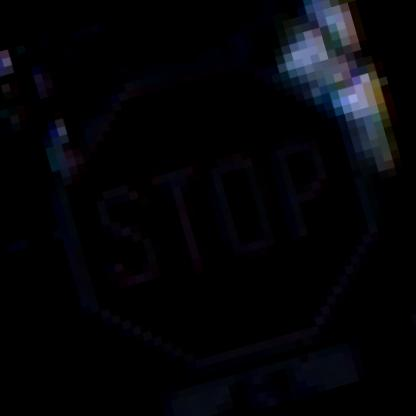stop: (17, 37, 415, 401)
